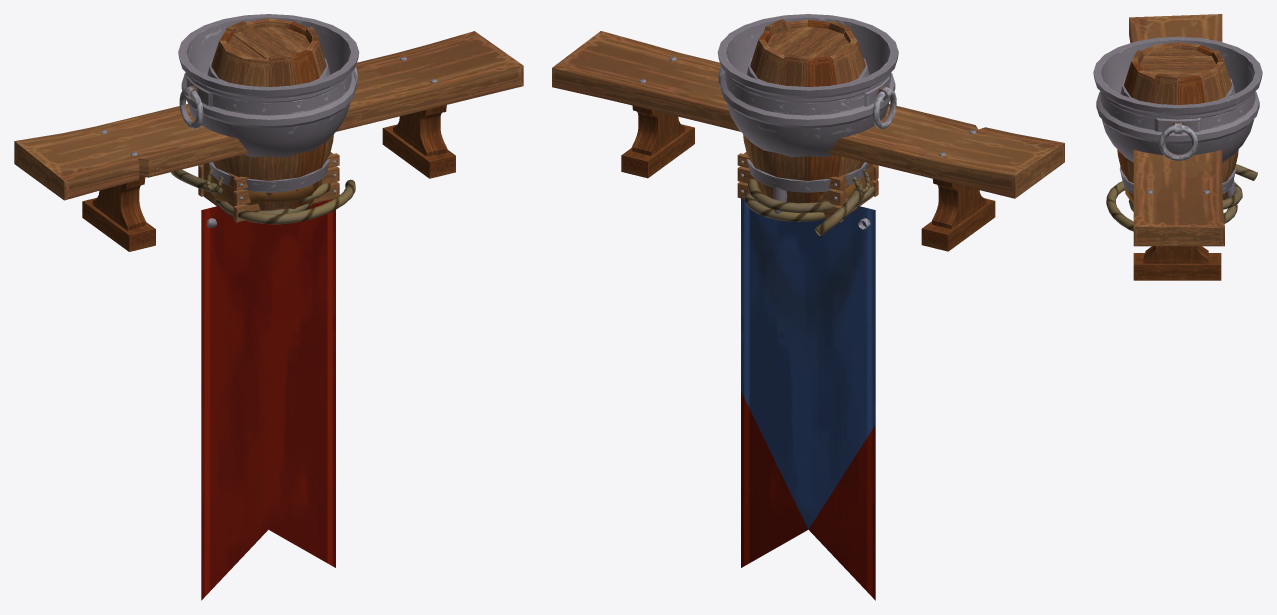
File: fantasy-props.phone.glb
3 views of the same model, side by side, from view 1: azimuth 30°, elevation 25°; view 2: azimuth 150°, elevation 25°; view 3: azimuth 270°, elevation 25° (orthographic). The views are drawn at different scales.
Parts seen in each view (by area): view 1: Banner_1_Cloth, Bench, Cauldron, Barrel, Rope_2, FarmCrate_Empty, Bag; view 2: Banner_2_Cloth, Bench, Cauldron, Banner_1_Cloth, Barrel, FarmCrate_Empty, Rope_2, Rope_1; view 3: Bench, Cauldron, Barrel, Rope_2.
Boxes of the visible parts, left/top/right/bottom form: Banner_1_Cloth: left=201, top=199, right=335, bottom=600; Bench: left=14, top=31, right=523, bottom=251; Cauldron: left=178, top=14, right=359, bottom=204; Barrel: left=207, top=18, right=333, bottom=210; Rope_2: left=171, top=169, right=355, bottom=224; FarmCrate_Empty: left=198, top=152, right=339, bottom=222; Bag: left=207, top=172, right=322, bottom=204; Banner_2_Cloth: left=741, top=198, right=875, bottom=529; Bench: left=552, top=31, right=1064, bottom=251; Cauldron: left=717, top=14, right=898, bottom=213; Banner_1_Cloth: left=741, top=218, right=875, bottom=600; Barrel: left=743, top=19, right=869, bottom=203; FarmCrate_Empty: left=737, top=152, right=878, bottom=222; Rope_2: left=748, top=178, right=877, bottom=235; Rope_1: left=743, top=193, right=824, bottom=221; Bench: left=1129, top=14, right=1224, bottom=280; Cauldron: left=1093, top=36, right=1262, bottom=198; Barrel: left=1117, top=42, right=1238, bottom=200; Rope_2: left=1106, top=164, right=1257, bottom=231.
Bounding box in the file's own units: 2.78 × 3.15 × 0.9439.
4 materials, 4 textured.
